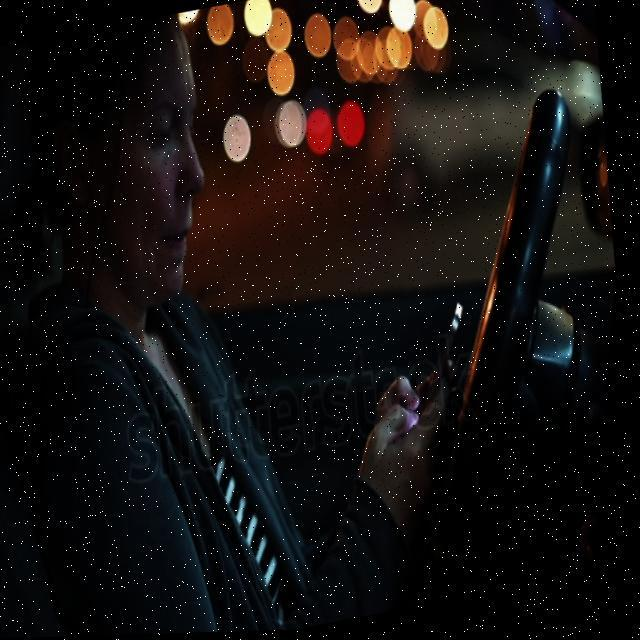PhoneCall: (407, 301, 489, 450)
